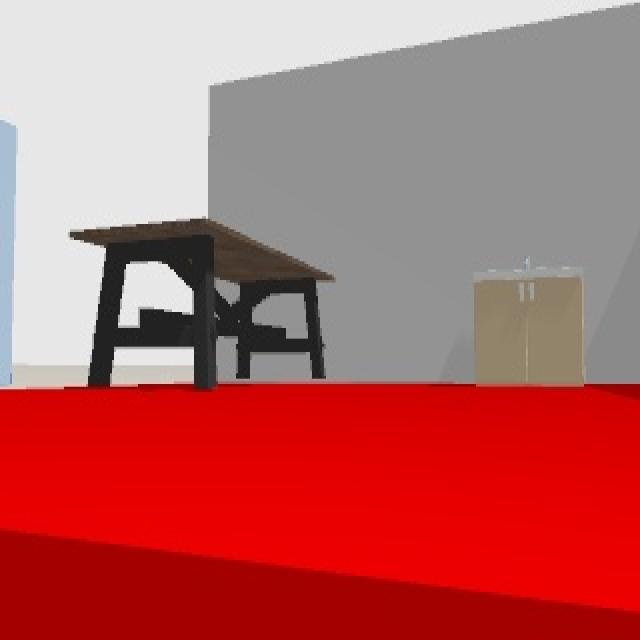dining: (69, 216, 336, 386)
